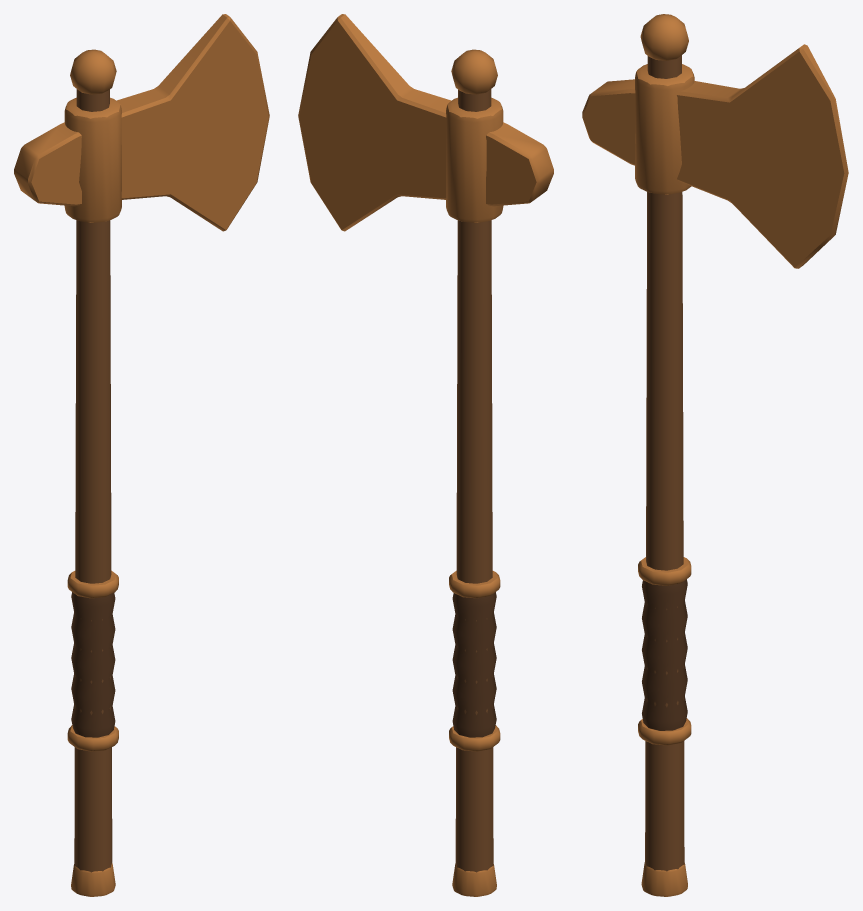
The model's file is bronze_axe.glb.
The picture shows the model from 3 angles, left to right: view 1: azimuth 30°, elevation 25°; view 2: azimuth 150°, elevation 25°; view 3: azimuth 330°, elevation 25°; orthographic projection. The views are drawn at different scales.
Visible parts, largest first — view 1: bronze_axe; view 2: bronze_axe; view 3: bronze_axe.
Boxes of the visible parts, left/top/right/bottom form: bronze_axe: left=14, top=14, right=269, bottom=896; bronze_axe: left=298, top=14, right=553, bottom=896; bronze_axe: left=582, top=14, right=848, bottom=896.
Bounding box in the file's own units: 0.2889 × 0.933 × 0.0578.
